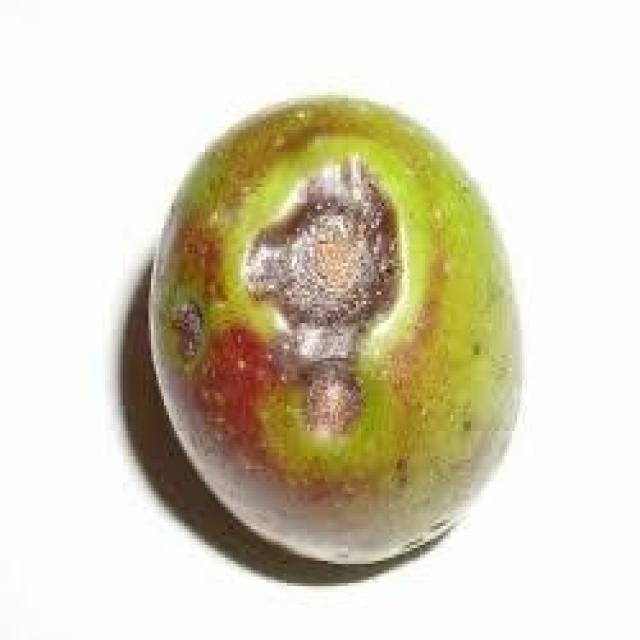Olive Fruit Fly: (151, 98, 520, 561)
